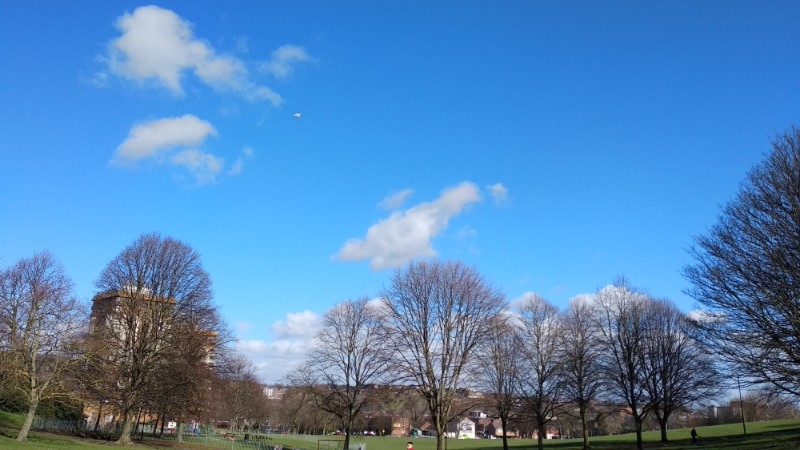drone: (292, 111, 302, 119)
